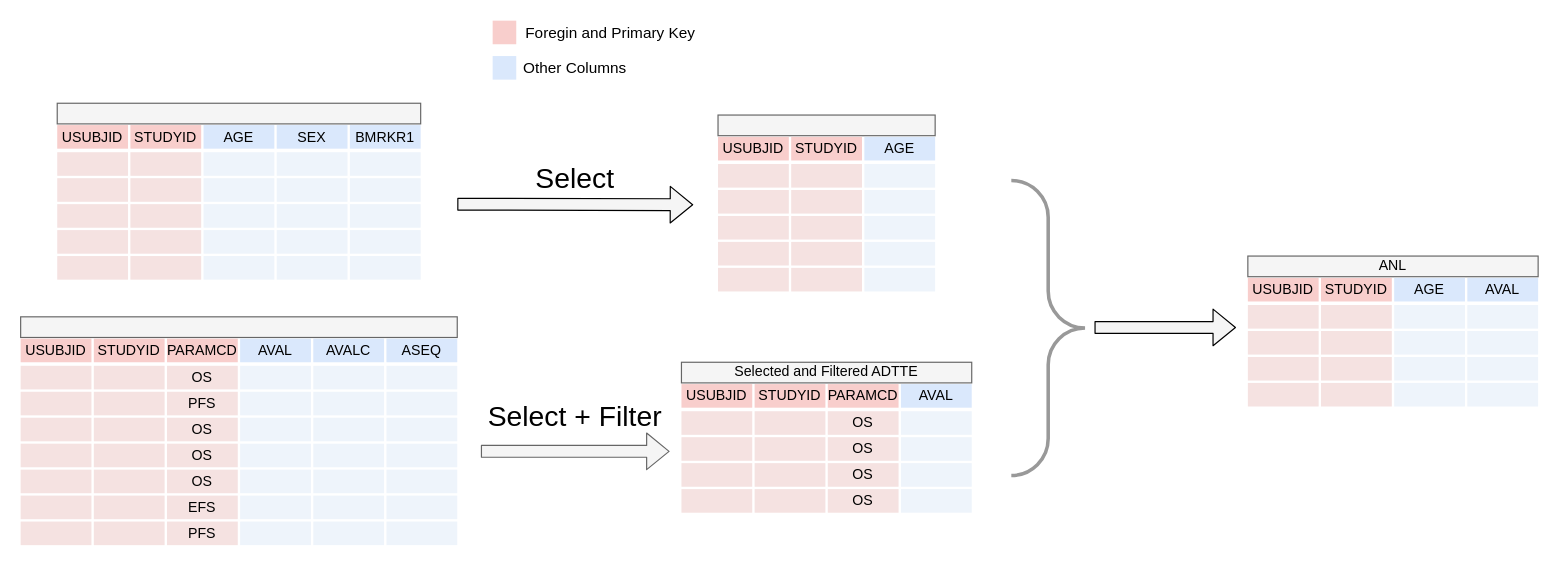
This 1559x565 diagram has some shape labels left out. Each missing label, with the centre of its shape:
ADSL: point (238, 113)
ADTTE: point (238, 326)
Merge: point (1047, 327)
Selected ADSL: point (826, 125)
